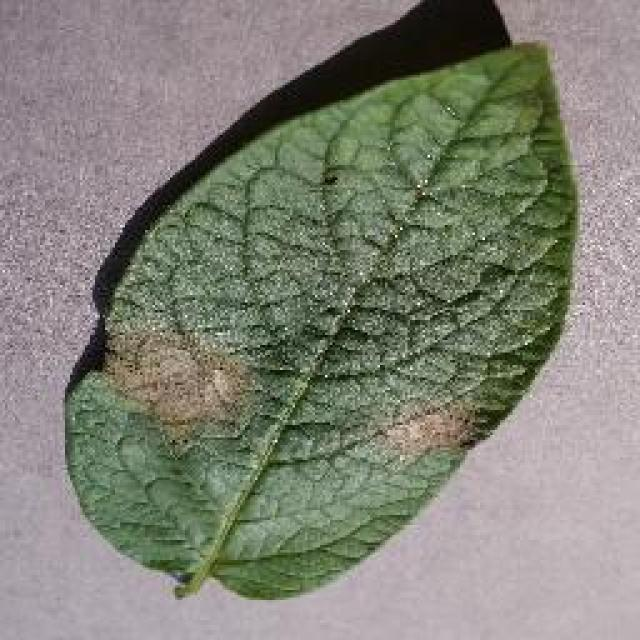late_blight: (58, 32, 582, 602)
